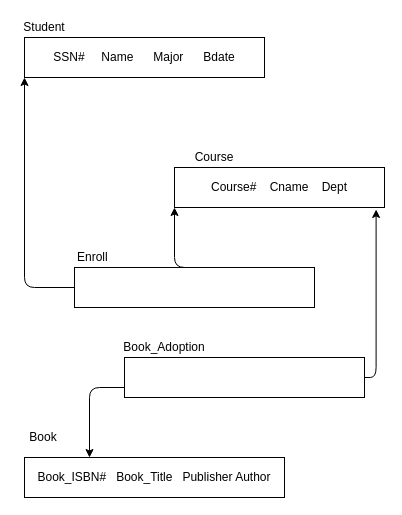
Image size: 402x515. Some labels were removed from this diagram. The shapes that lost their labels are listed below. From the top down, each one's centre as x and y in pixels, then its label:
At point 194,287: "SSN# Course# Quater Grade".
At point 244,377: "Course# Quater Book_ISBN#".
